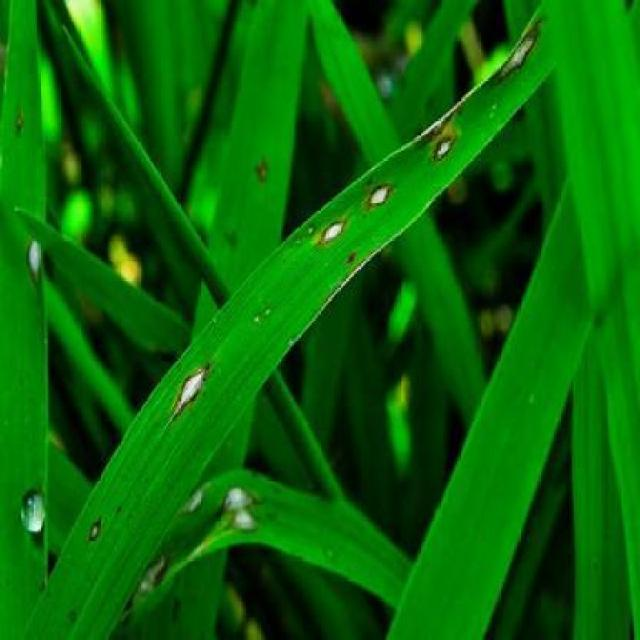Bacterial_Leaf_Blight: (494, 2, 552, 76), (123, 540, 177, 605), (162, 349, 220, 408), (213, 473, 262, 539), (402, 112, 463, 158), (14, 468, 52, 538), (18, 226, 54, 297), (175, 468, 213, 520), (362, 166, 398, 211), (317, 205, 355, 247), (252, 142, 276, 196), (249, 290, 280, 327), (0, 14, 15, 88), (9, 94, 29, 146), (82, 506, 105, 549), (322, 535, 342, 571), (12, 361, 32, 397), (62, 596, 83, 630), (612, 0, 640, 22)
